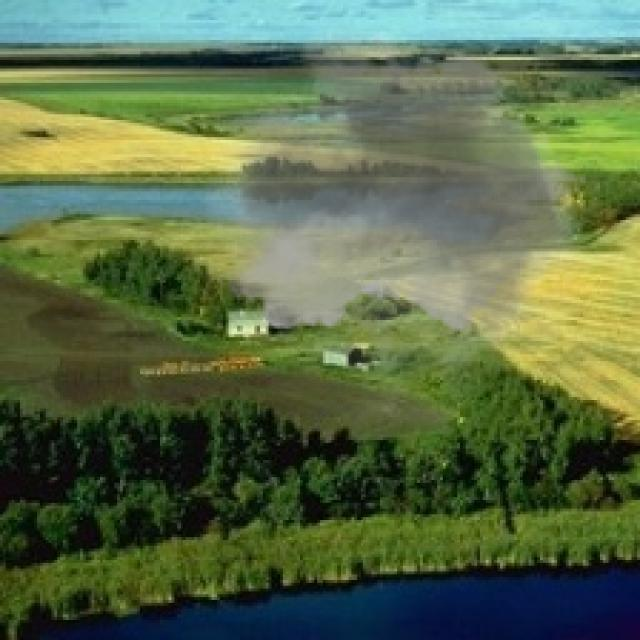smoke: (203, 11, 600, 412)
